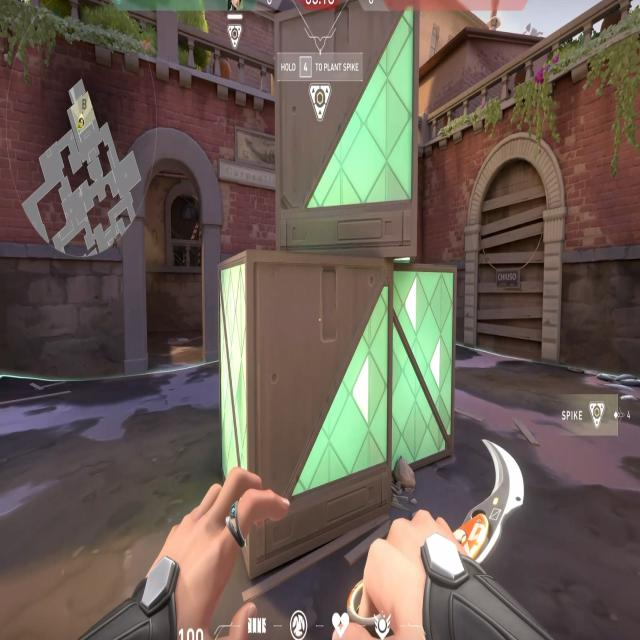B_Boathouse: (122, 115, 225, 368)
B_Site_Box: (219, 22, 463, 564)
